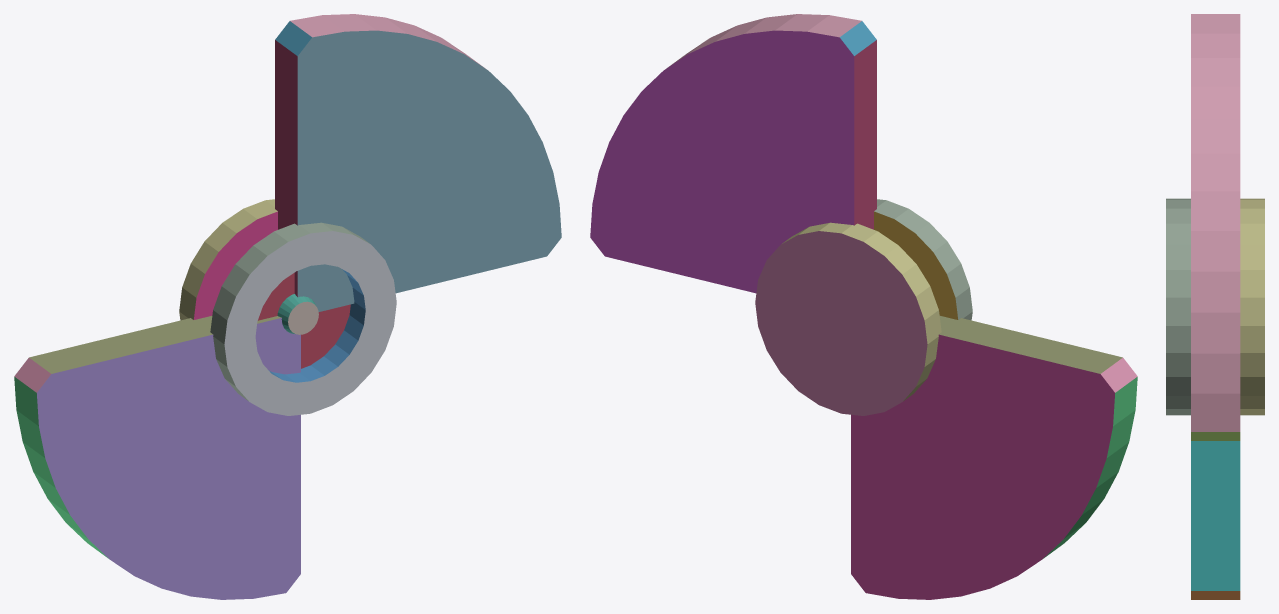
Rendered from module-spring-01.glb.
The picture shows the model from 3 angles, left to right: view 1: azimuth 30°, elevation 25°; view 2: azimuth 150°, elevation 25°; view 3: azimuth 270°, elevation 25°; orthographic projection. The views are drawn at different scales.
Size of the model in its own units: 1.69 by 1.69 by 0.2525.
